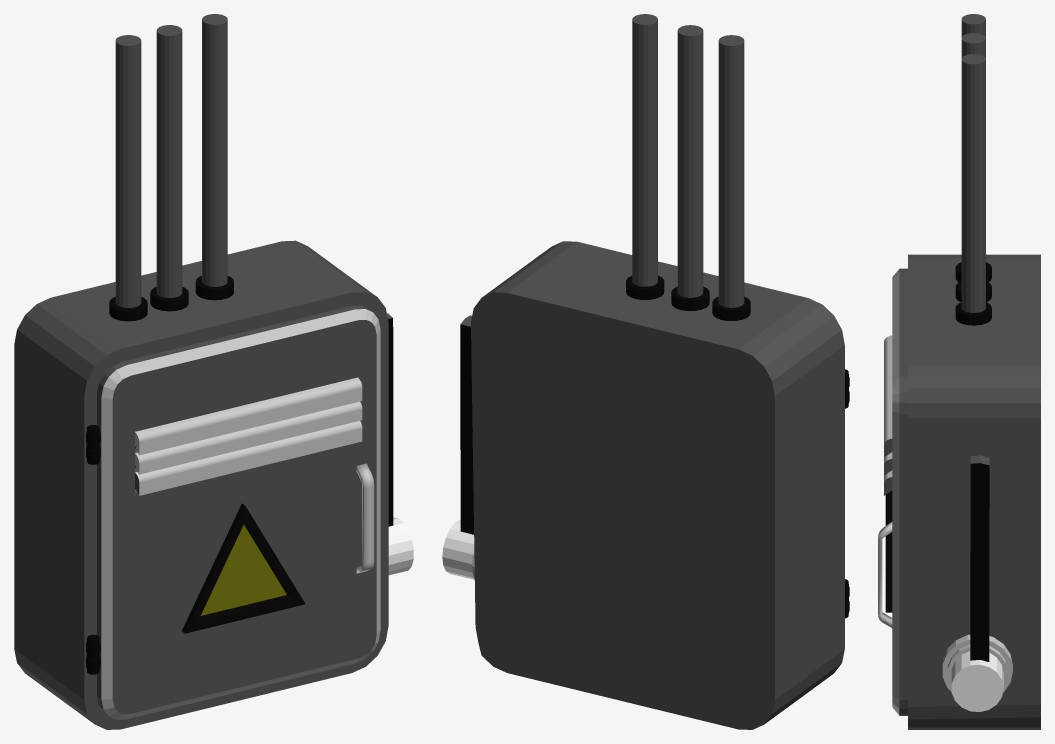
Rendered from cosaconcables.fbx.
3 views of the same model, side by side, from view 1: azimuth 30°, elevation 25°; view 2: azimuth 150°, elevation 25°; view 3: azimuth 270°, elevation 25° (orthographic). The views are drawn at different scales.
Parts seen in each view (by area): view 1: Cylinder.004; view 2: Cylinder.004; view 3: Cylinder.004.
Part boxes in pixels (box(x1,y1,x2,y2)): Cylinder.004: box(14, 14, 413, 729); Cylinder.004: box(442, 14, 849, 729); Cylinder.004: box(878, 14, 1040, 729).
Bounding box in the file's own units: 58.85 × 104 × 24.78.
5 materials, 1 textured.
